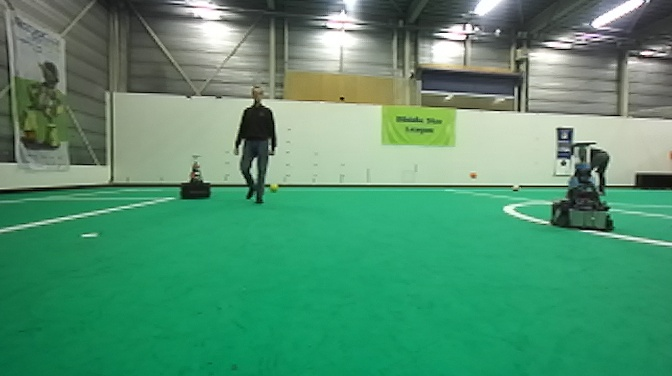ball: (267, 178, 281, 194), (467, 169, 482, 182), (510, 182, 522, 194)
human: (229, 81, 279, 206), (572, 141, 613, 190)
robot: (549, 139, 616, 232), (177, 153, 215, 201)
